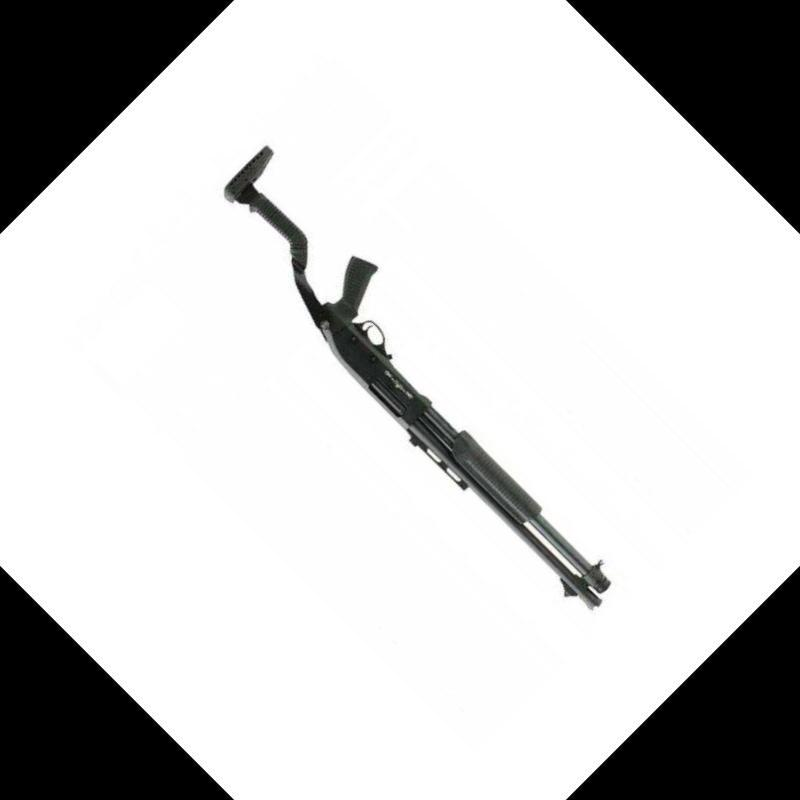larga: (223, 144, 612, 611)
